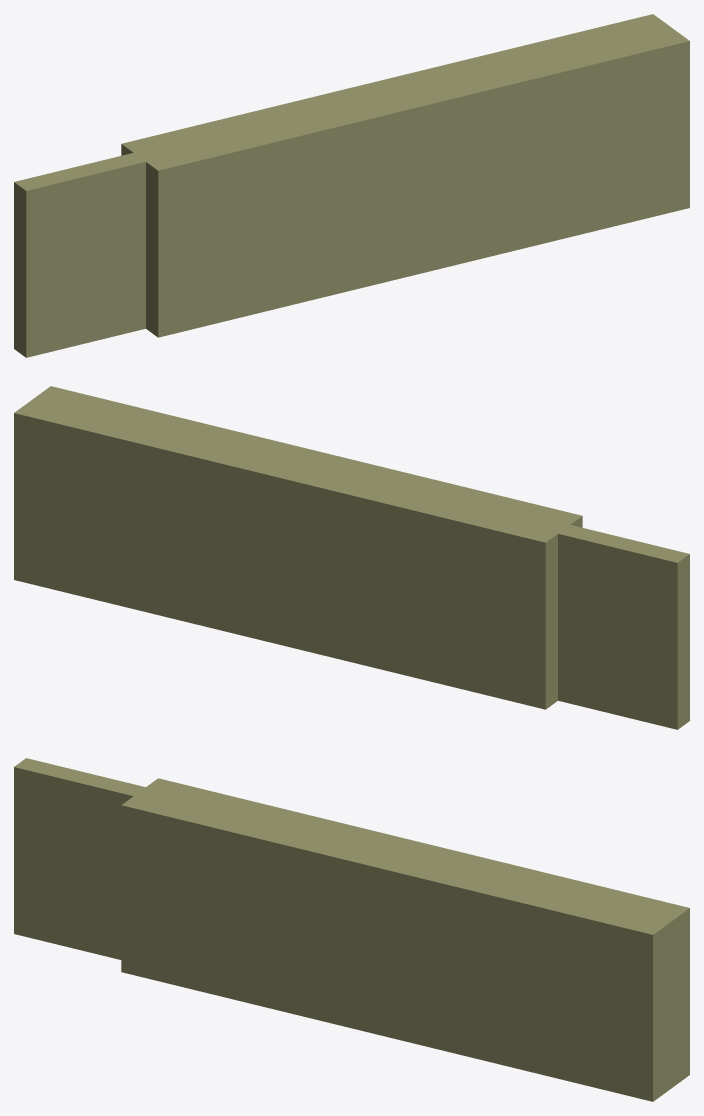
The model's file is lake-amur-white-shallows-0.glb.
The picture shows the model from 3 angles, top to bottom: view 1: azimuth 30°, elevation 25°; view 2: azimuth 150°, elevation 25°; view 3: azimuth 330°, elevation 25°; orthographic projection.
Parts seen in each view (by area): view 1: body, tail; view 2: body, tail; view 3: body, tail.
Boxes of the visible parts, <box> form: body: <box>121,14,689,337</box>; tail: <box>14,150,157,357</box>; body: <box>14,386,582,709</box>; tail: <box>546,521,689,729</box>; body: <box>121,778,689,1101</box>; tail: <box>14,758,157,959</box>.
Size of the model in its own units: 0.98 by 0.24 by 0.096.
